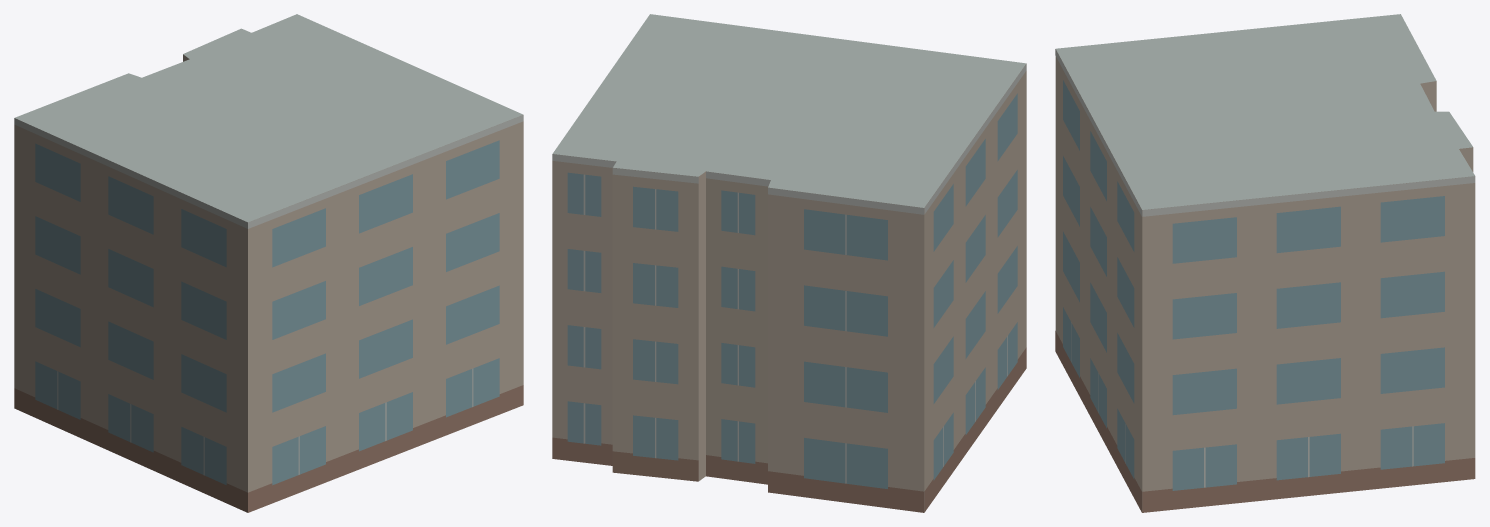
File: survey-upis-32598681.glb
The picture shows the model from 3 angles, left to right: view 1: azimuth 30°, elevation 25°; view 2: azimuth 150°, elevation 25°; view 3: azimuth 270°, elevation 25°; orthographic projection. The views are drawn at different scales.
Parts seen in each view (by area): view 1: survey-upis-32598681.tmp; view 2: survey-upis-32598681.tmp; view 3: survey-upis-32598681.tmp.
Boxes of the visible parts, x1=… form: survey-upis-32598681.tmp: x1=14, y1=14, x2=523, y2=512; survey-upis-32598681.tmp: x1=552, y1=14, x2=1026, y2=512; survey-upis-32598681.tmp: x1=1055, y1=14, x2=1475, y2=512.
Bounding box in the file's own units: 15 × 10.8 × 13.58.
